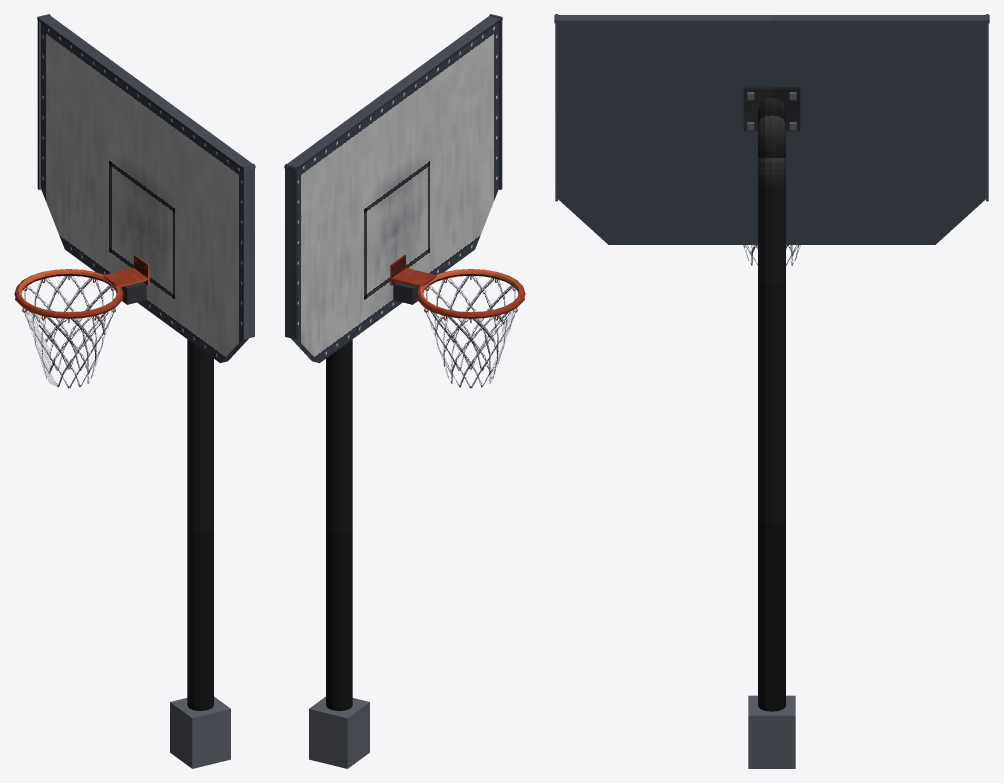
The model's file is hoop.glb.
3 renders of one model, left to right at view 1: azimuth 30°, elevation 25°; view 2: azimuth 150°, elevation 25°; view 3: azimuth 270°, elevation 25°, orthographic. The views are drawn at different scales.
Visible parts, largest first — view 1: Backboard, Gooseneck, PoleSleeve, Net, EdgeTop, EdgeSide0, Rim, EdgeSide2, NeckTongue, SpringBox; view 2: Backboard, Gooseneck, PoleSleeve, Net, EdgeTop, EdgeSide2, Rim, EdgeSide0, NeckTongue, SpringBox; view 3: Backboard, Gooseneck, EdgeTop, PoleSleeve, MountPlate.
Boxes of the visible parts, bbox=[...] form: Backboard: bbox=[41, 23, 248, 363]; Gooseneck: bbox=[187, 339, 213, 710]; PoleSleeve: bbox=[170, 696, 230, 768]; Net: bbox=[23, 275, 114, 388]; EdgeTop: bbox=[37, 16, 255, 170]; EdgeSide0: bbox=[242, 163, 254, 339]; Rim: bbox=[14, 269, 123, 318]; EdgeSide2: bbox=[37, 14, 50, 189]; NeckTongue: bbox=[103, 268, 149, 286]; SpringBox: bbox=[121, 282, 146, 304]; Backboard: bbox=[291, 23, 498, 363]; Gooseneck: bbox=[326, 339, 352, 710]; PoleSleeve: bbox=[309, 696, 369, 768]; Net: bbox=[425, 275, 516, 388]; EdgeTop: bbox=[284, 16, 502, 170]; EdgeSide2: bbox=[285, 163, 297, 339]; Rim: bbox=[416, 269, 525, 318]; EdgeSide0: bbox=[489, 14, 502, 189]; NeckTongue: bbox=[390, 268, 436, 286]; SpringBox: bbox=[393, 282, 418, 304]; Backboard: bbox=[558, 23, 985, 244]; Gooseneck: bbox=[758, 98, 785, 711]; EdgeTop: bbox=[554, 15, 989, 23]; PoleSleeve: bbox=[748, 695, 795, 768]; MountPlate: bbox=[743, 87, 800, 131].
Bounding box in the file's own units: 1.02 × 3.35 × 1.85.
8 materials, 5 textured.
